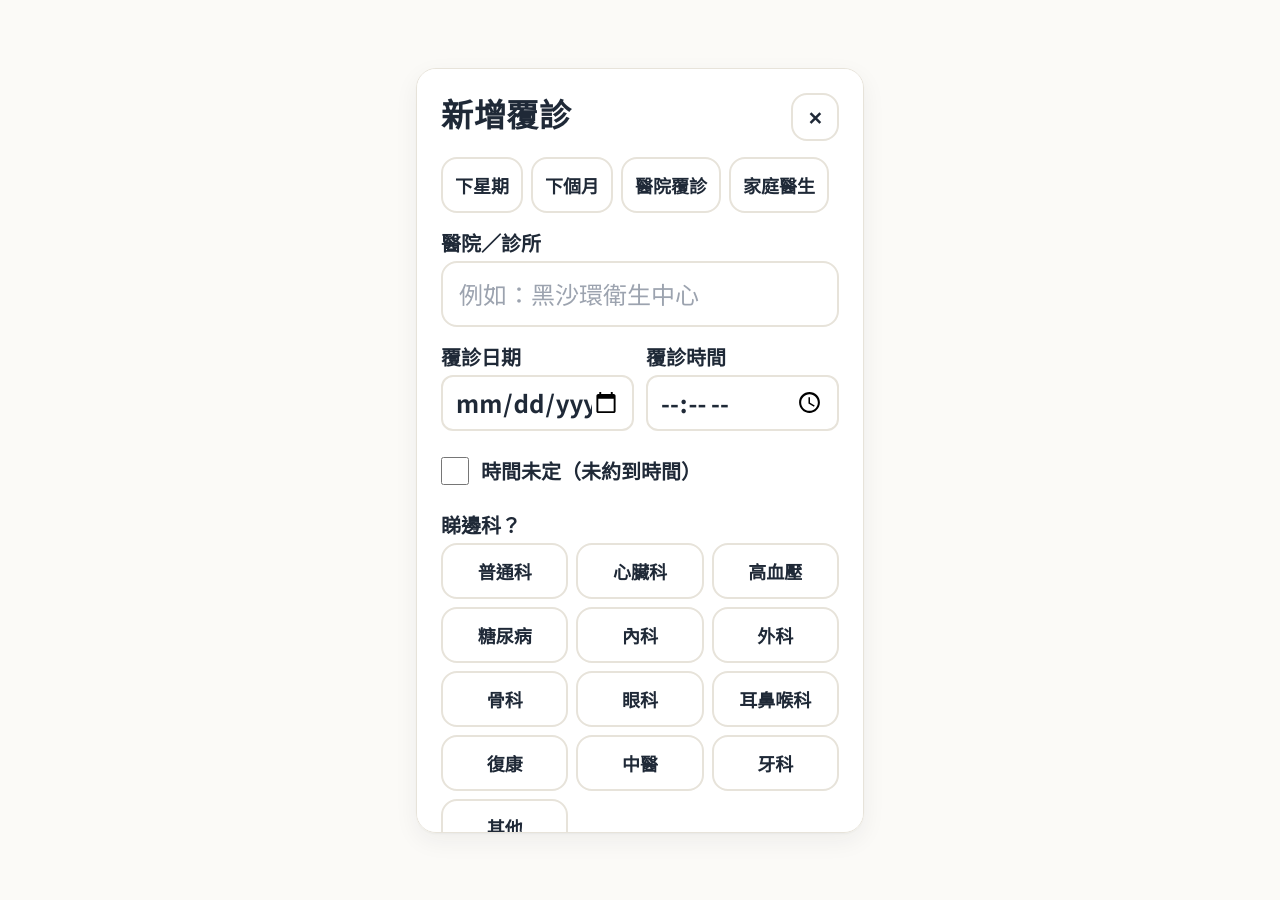
AppointmentModal › 未剔時間未定又無時間 → 錯誤提示
This screenshot has width=1280, height=900.
In the date field with test id "appt-date": (538, 403) [441, 375, 634, 431], type "2026-09-01"
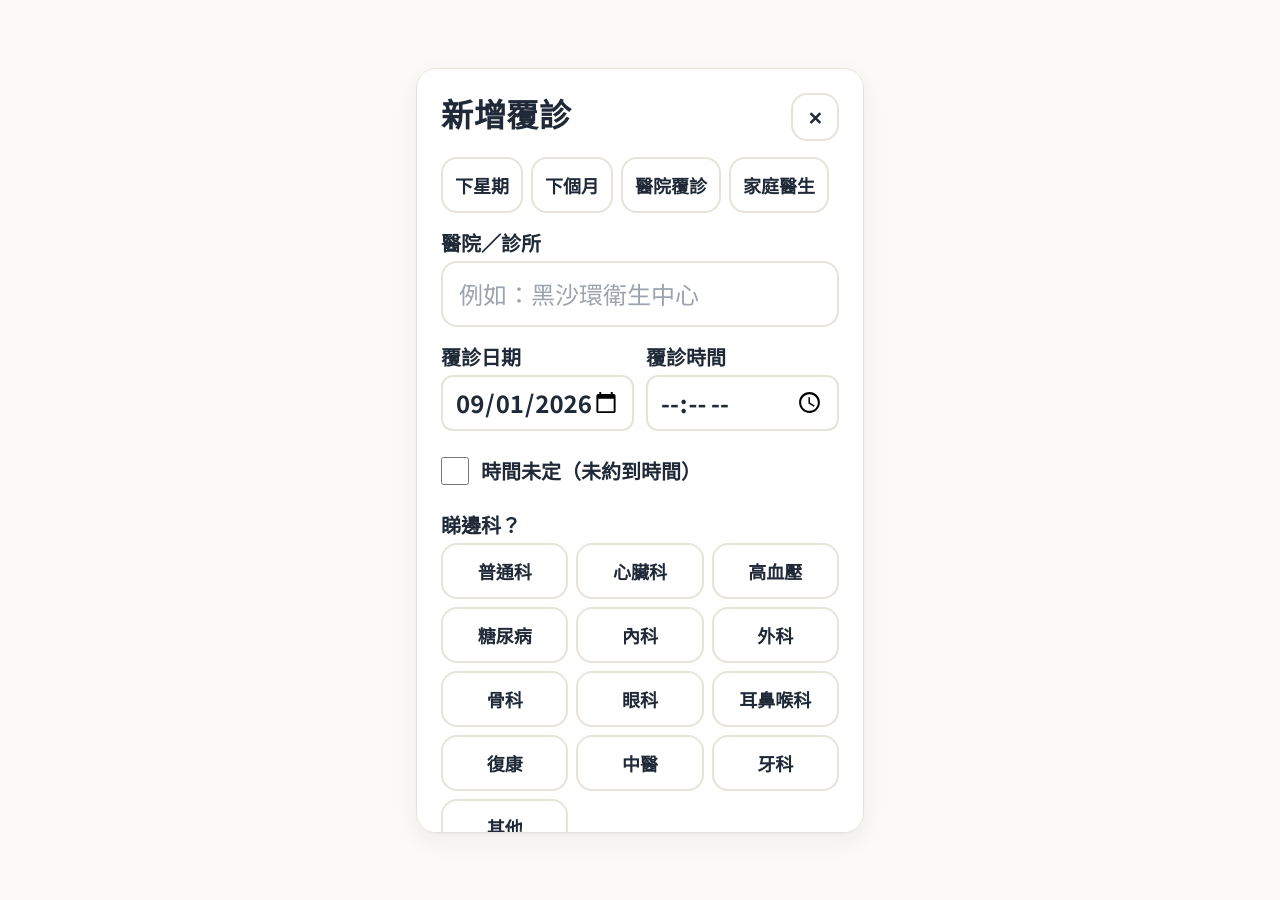
In the dropdown with test id "appt-location-input": (640, 294) [441, 260, 839, 327], type "鏡湖醫院"
(page scrolled)
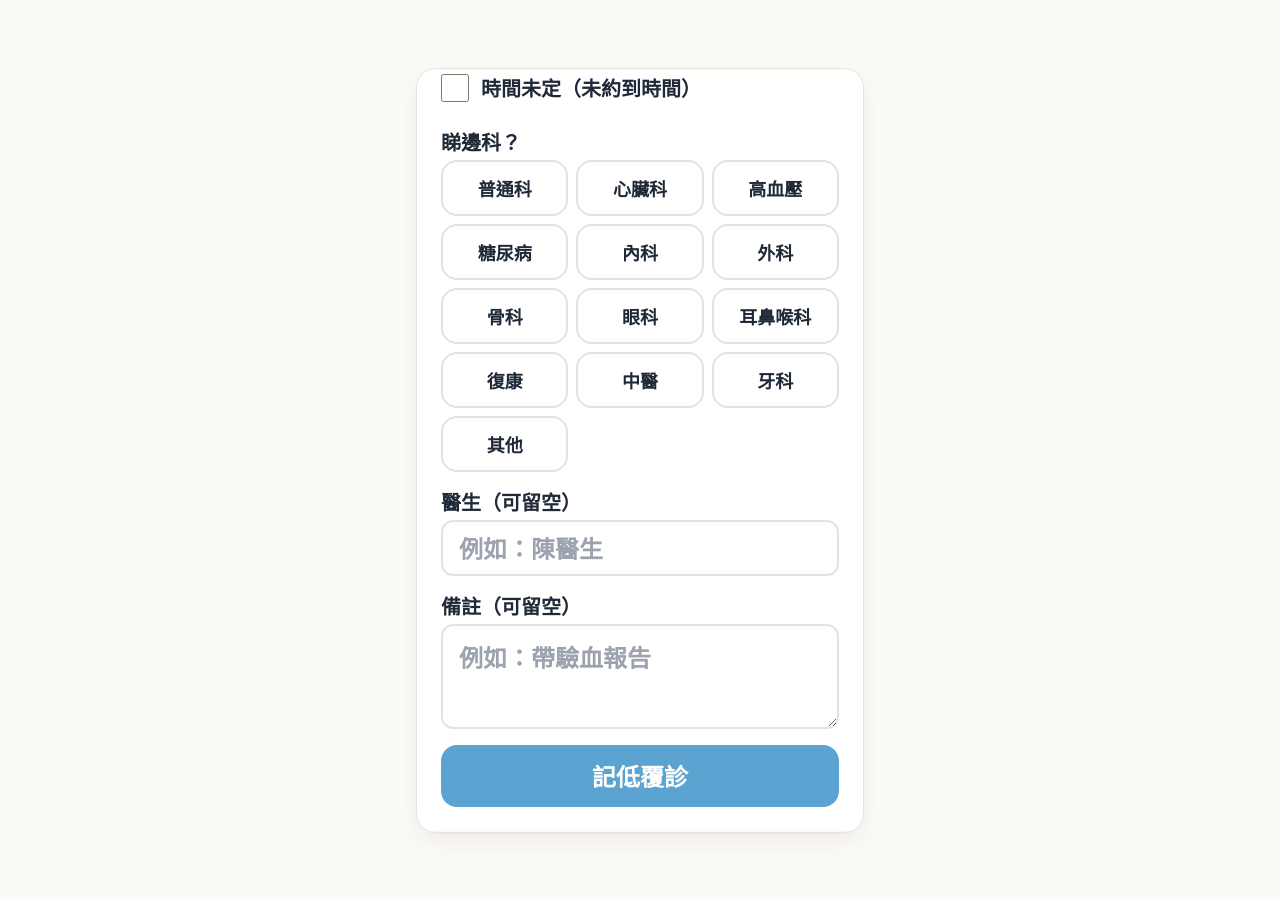
Click the button "記低覆診": (640, 776) [441, 745, 839, 807]
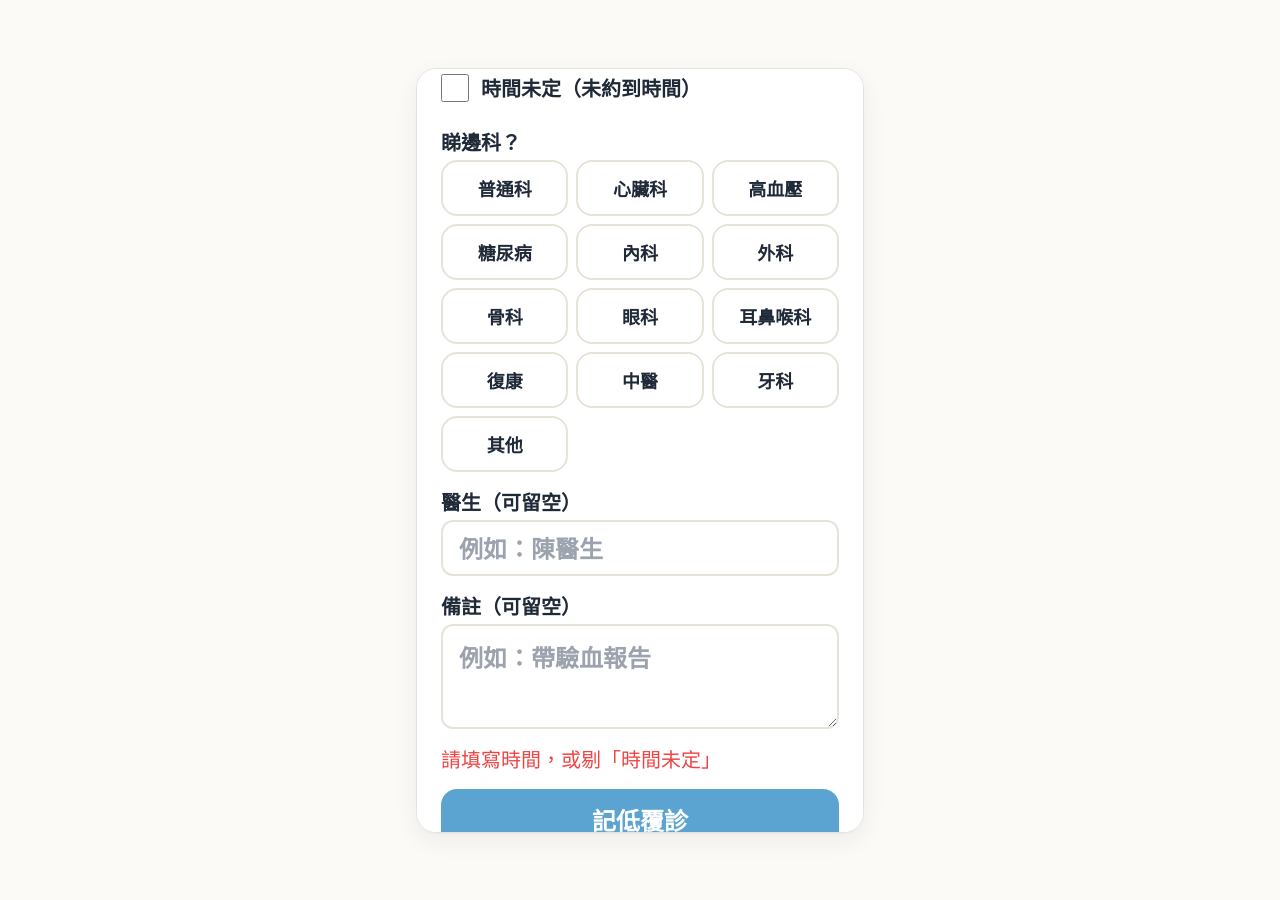
Now the message shows "請填寫時間", box [441, 744, 721, 773]
